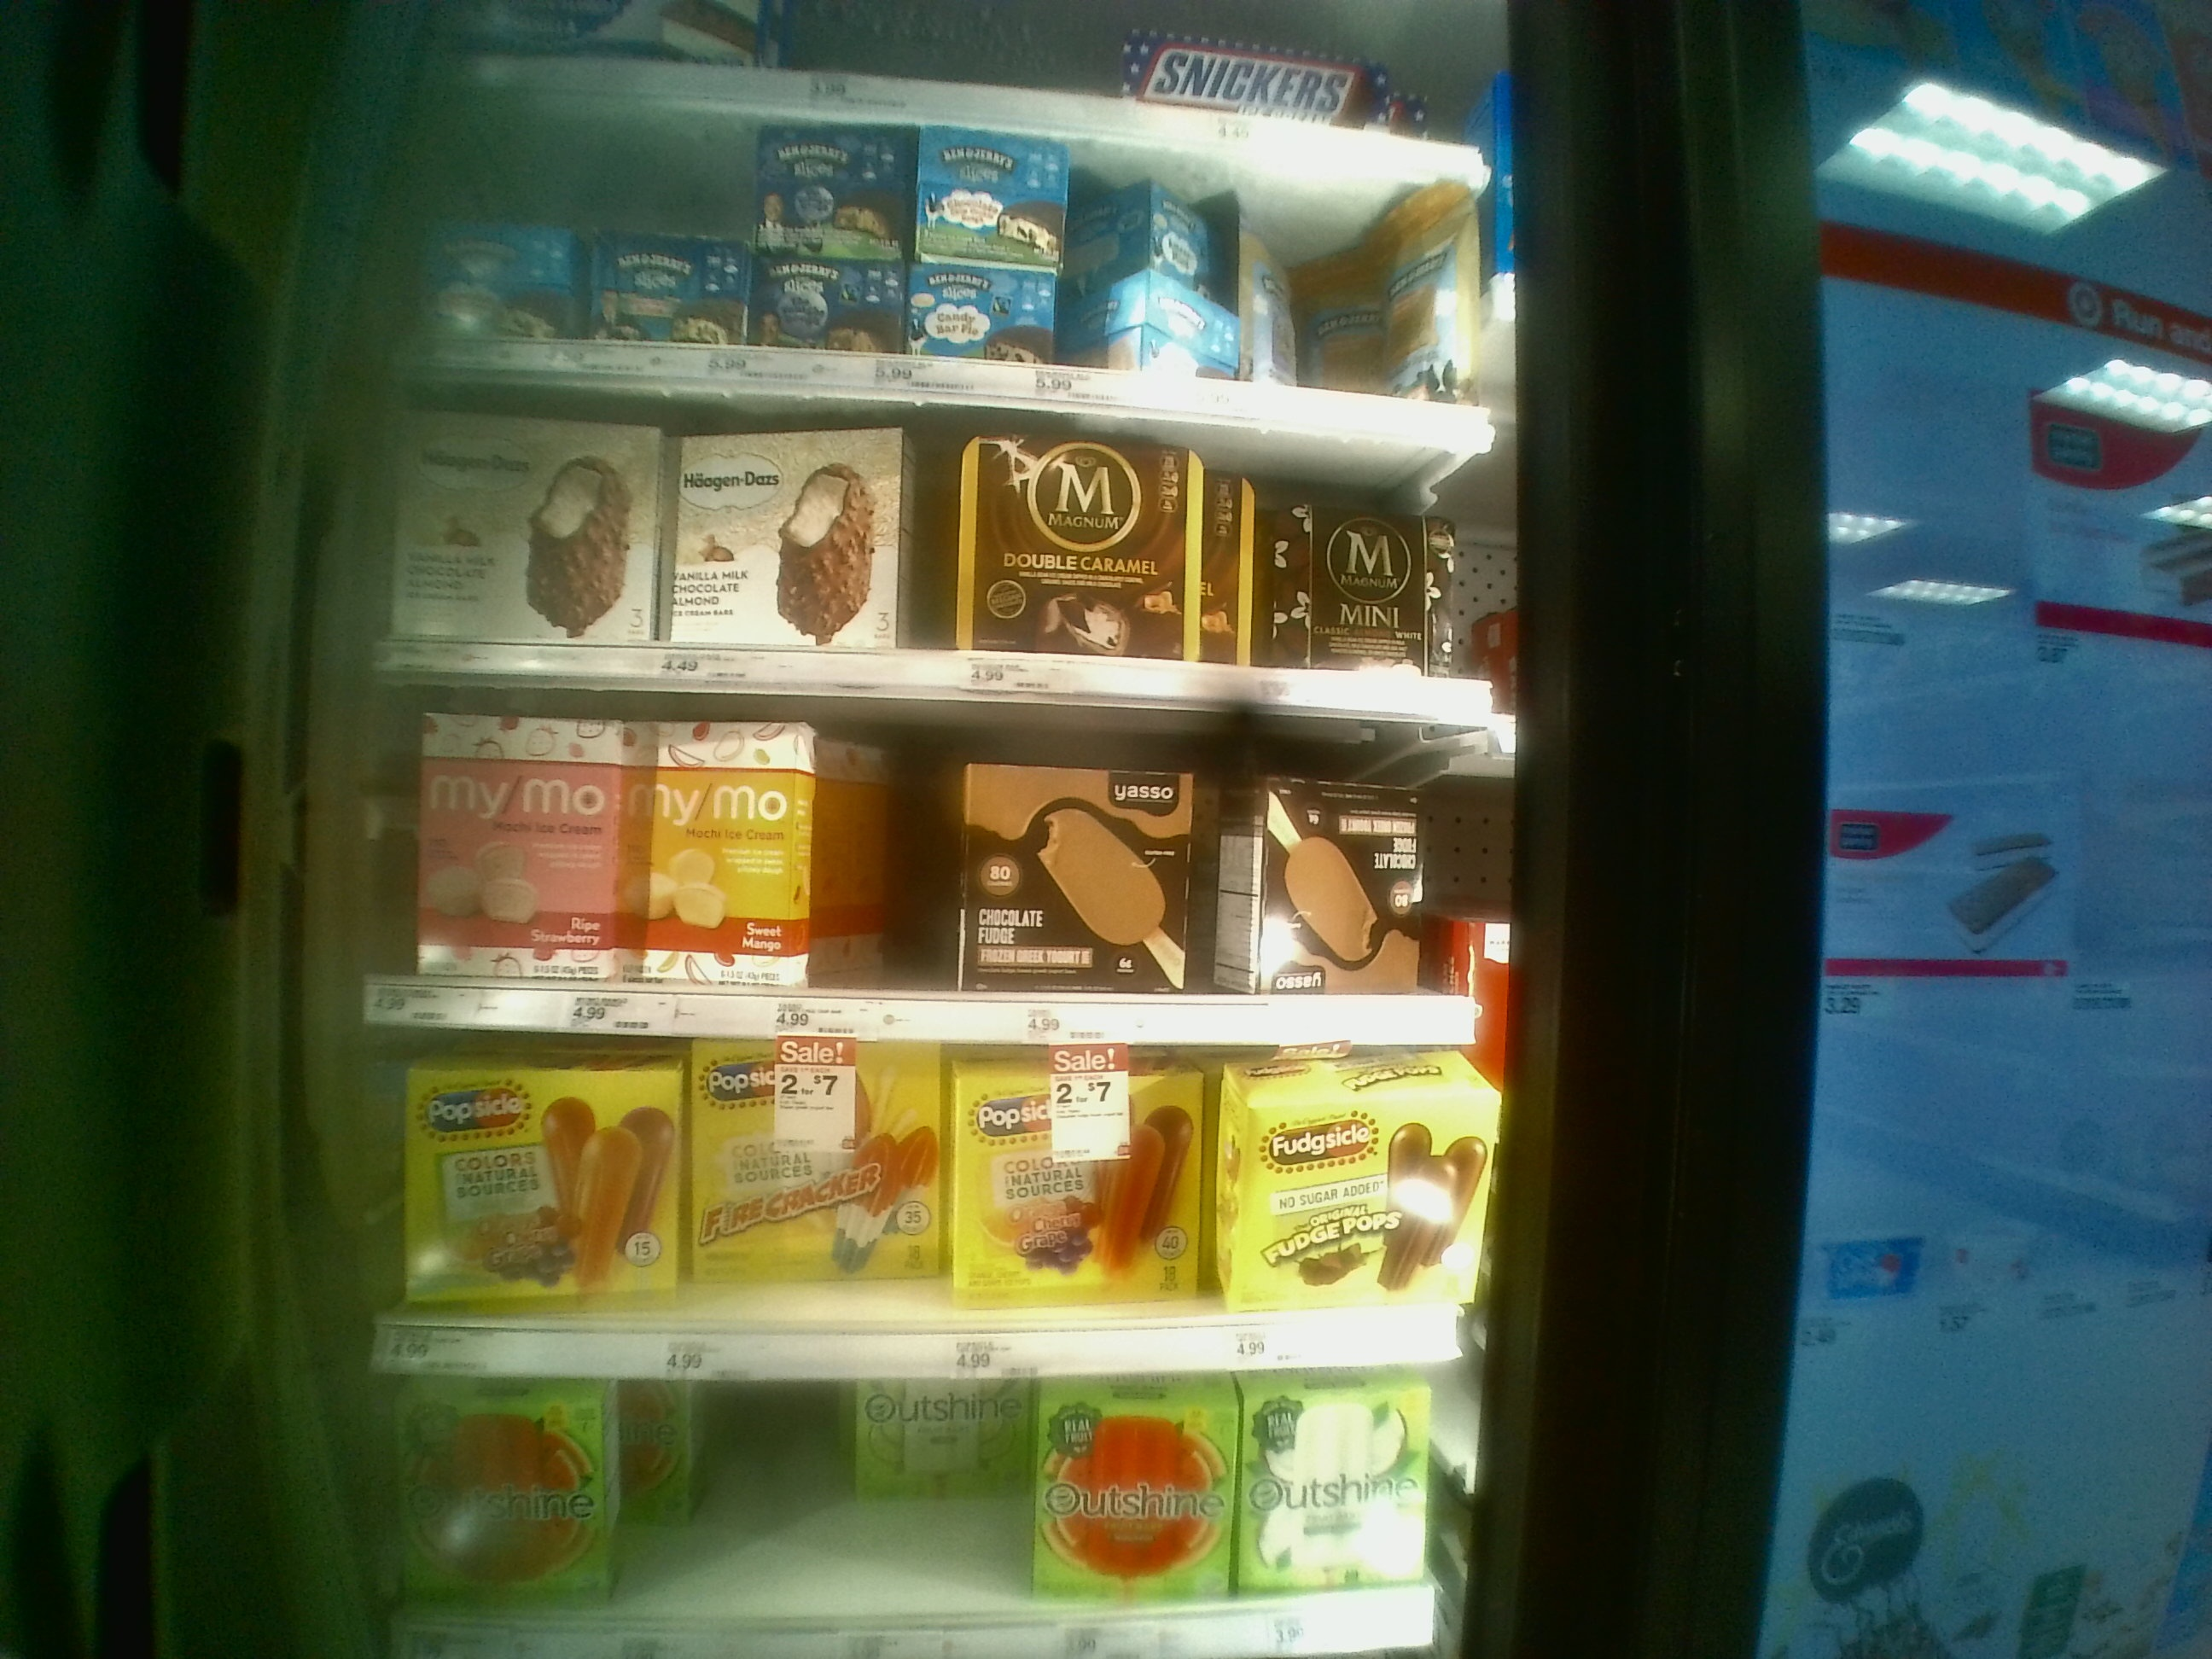ice-cream-shelf: (366, 688, 1489, 1035), (371, 1035, 1474, 1378), (392, 375, 1510, 711), (361, 1378, 1453, 1647)
